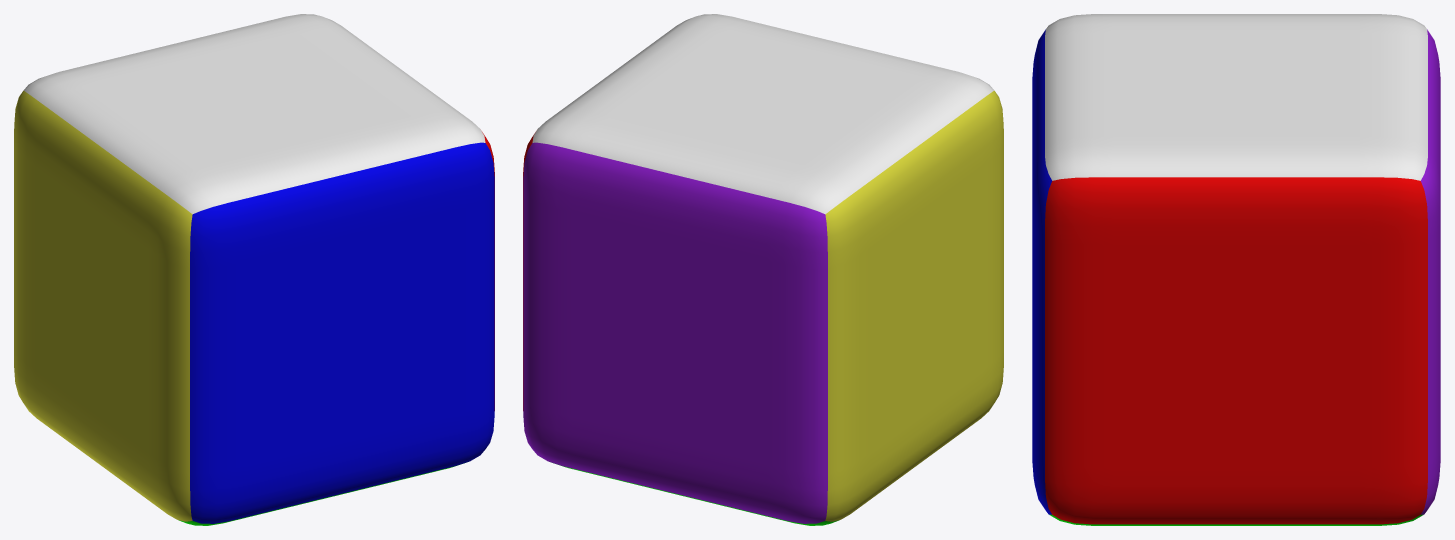
File: multicolorcube.fbx
3 renders of one model, left to right at view 1: azimuth 30°, elevation 25°; view 2: azimuth 150°, elevation 25°; view 3: azimuth 270°, elevation 25°, orthographic. The views are drawn at different scales.
Visible parts, largest first — view 1: Cube; view 2: Cube; view 3: Cube.
Boxes of the visible parts, left/top/right/bottom form: Cube: left=14, top=14, right=494, bottom=525; Cube: left=523, top=14, right=1003, bottom=525; Cube: left=1032, top=14, right=1440, bottom=525.
Size of the model in its own units: 200 by 200 by 200.
